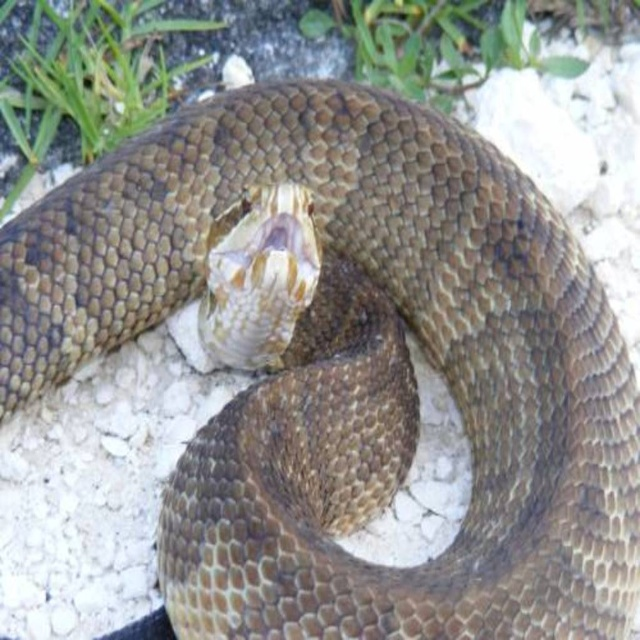Snake: (0, 75, 639, 638)
